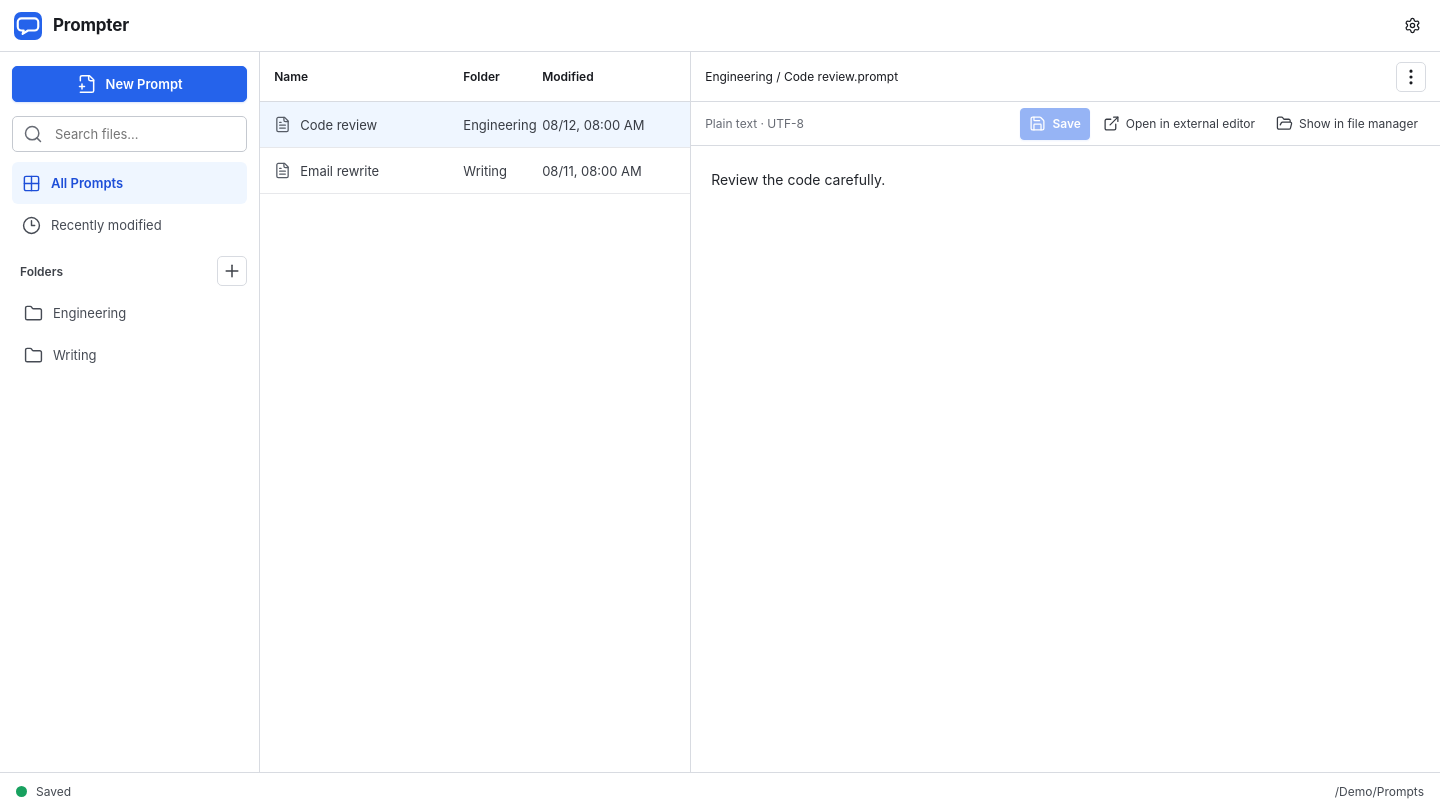
Test: Manager › returns to All Prompts when the selected folder disappears
expect the text box showing "Review the code carefully." is shown: met, box [691, 146, 1440, 772]
What coordinates should you click on to do the following:
click the button "Engineering"
I would click on:
 (130, 313)
Its box is [12, 292, 247, 334].
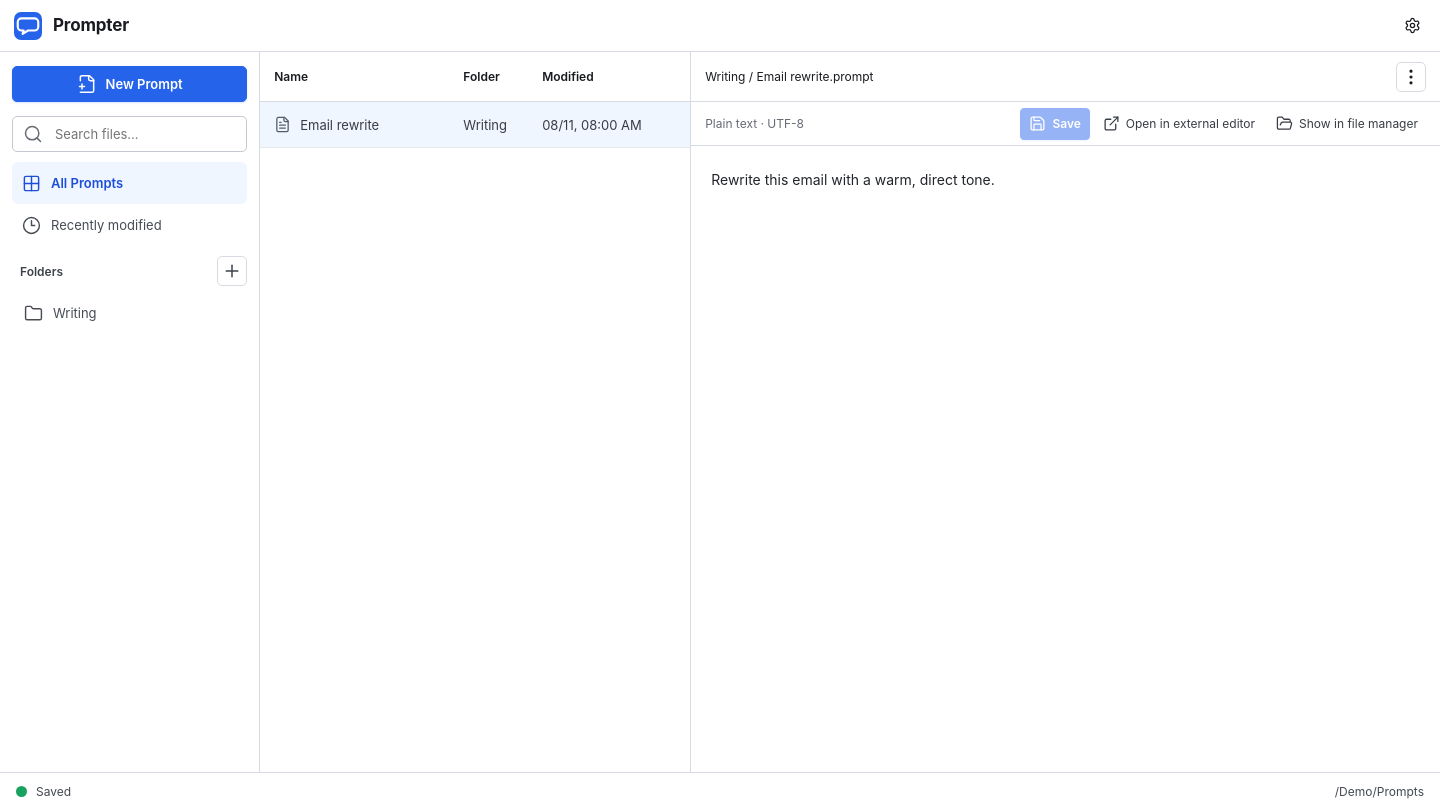
expect the text "Email rewrite" is shown: met, box [274, 116, 379, 133]
expect the text box showing "Rewrite this email with a warm, direct tone." is shown: met, box [691, 146, 1440, 772]
